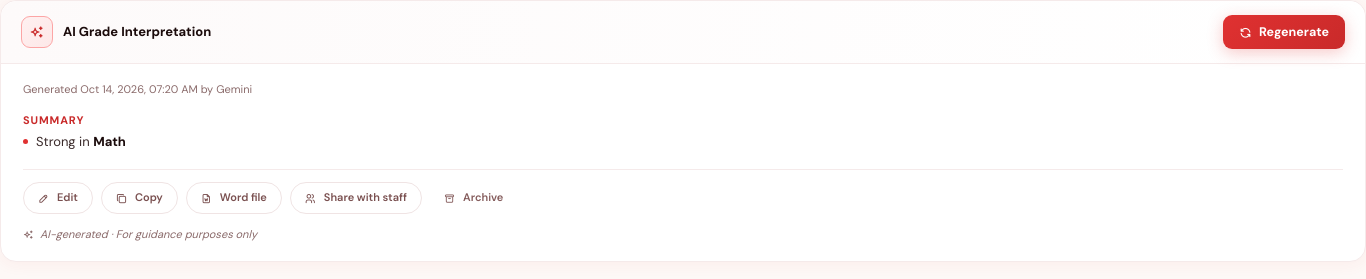
Test: AIInsightPanel › copies plain text, without the markup
Click the button "Copy": (139, 198) [101, 182, 178, 214]
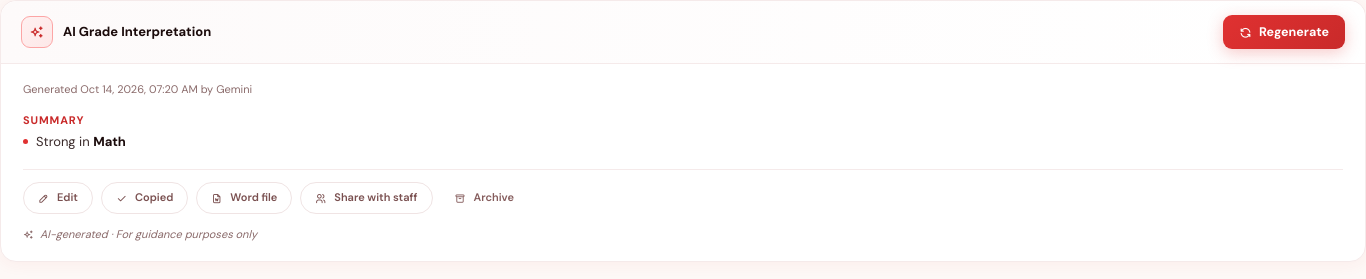
Check: the text "Copied" is shown, box [135, 190, 173, 206]
